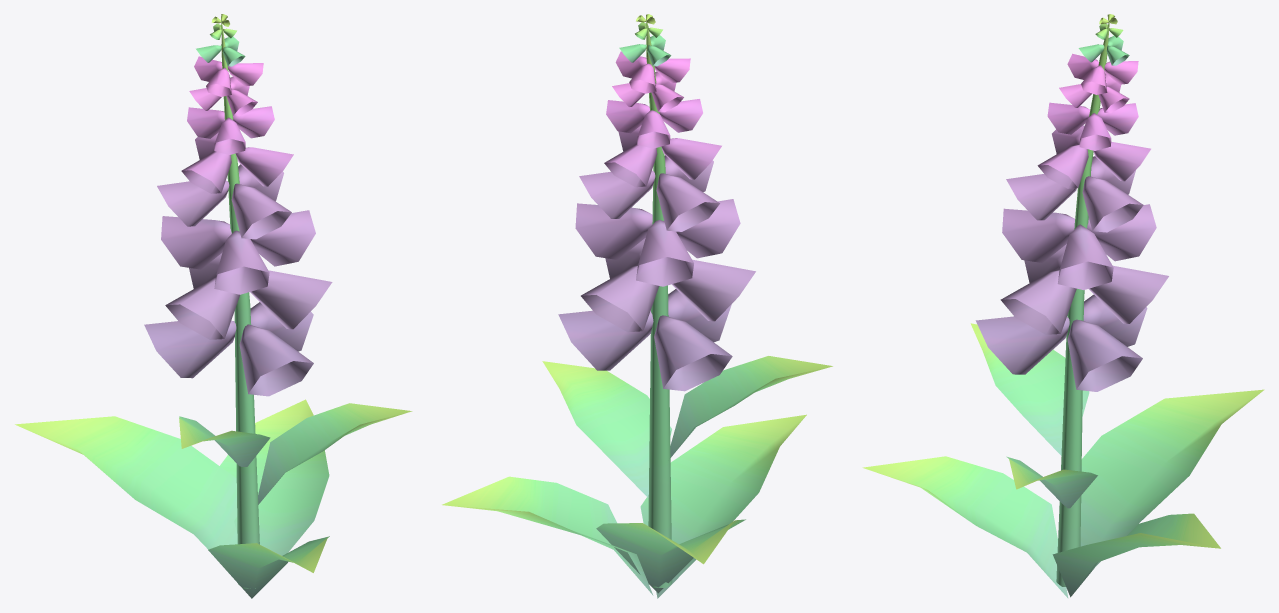
The model's file is Flower.025_Base_Material_0.fbx.
3 views of the same model, side by side, from view 1: azimuth 30°, elevation 25°; view 2: azimuth 150°, elevation 25°; view 3: azimuth 270°, elevation 25° (orthographic). The views are drawn at different scales.
Visible parts, largest first — view 1: Flower.025_Base_Material_0_export; view 2: Flower.025_Base_Material_0_export; view 3: Flower.025_Base_Material_0_export.
Boxes of the visible parts, x1,y1,x2,y2 form: Flower.025_Base_Material_0_export: (15, 14, 412, 598); Flower.025_Base_Material_0_export: (442, 14, 832, 598); Flower.025_Base_Material_0_export: (862, 14, 1264, 598).
Bounding box in the file's own units: 1.67 × 3.31 × 2.09.
